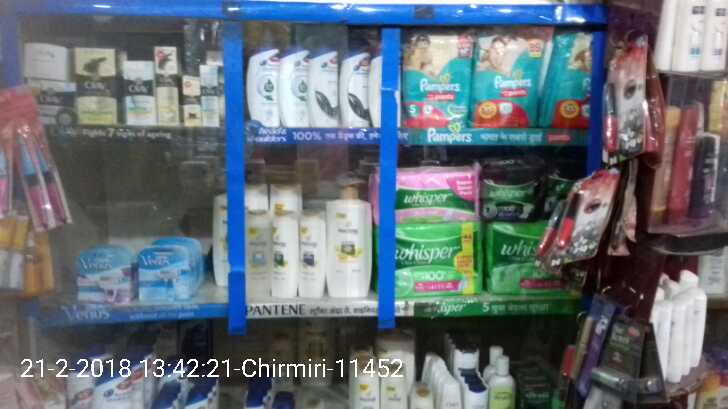venus: (141, 238, 207, 301), (80, 246, 141, 300)
